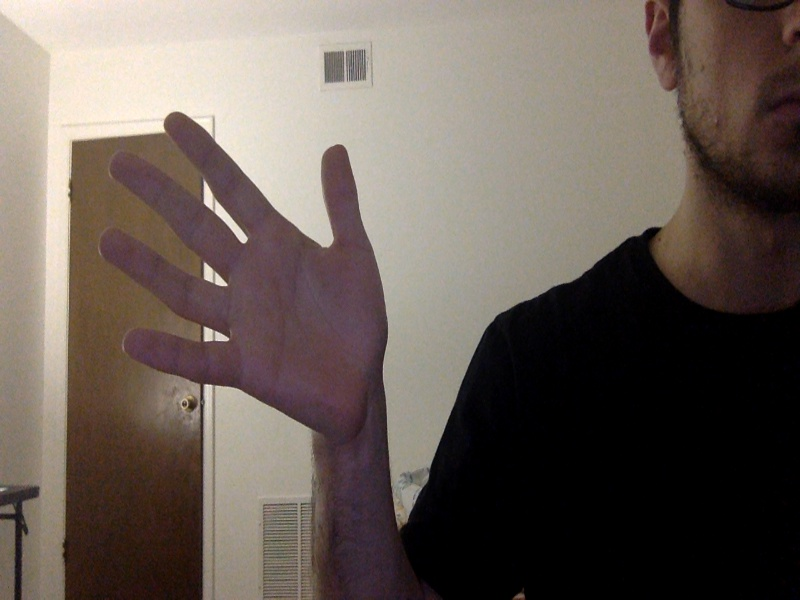5-hand: (100, 115, 389, 445)
